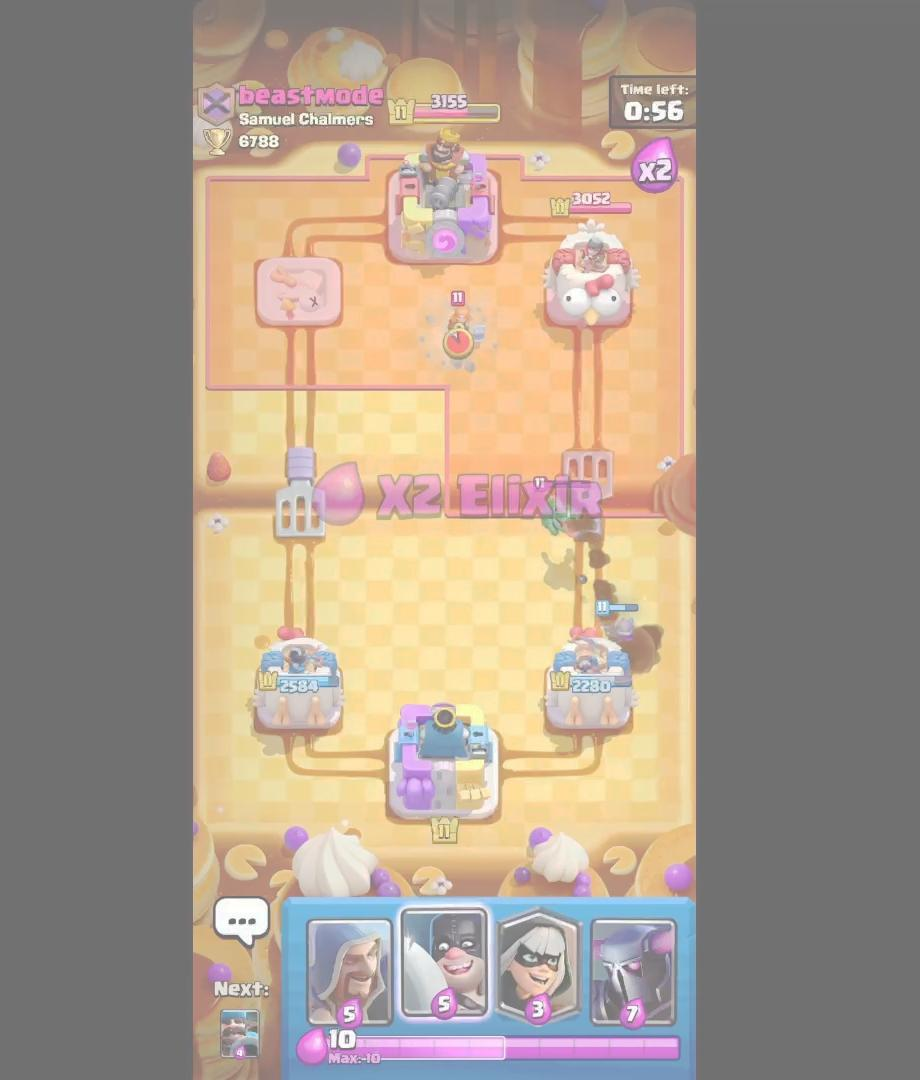Valkyrie: (431, 293, 492, 368)
